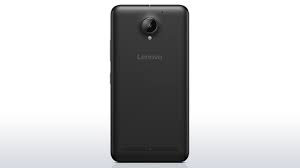lenovo: (103, 4, 193, 165)
